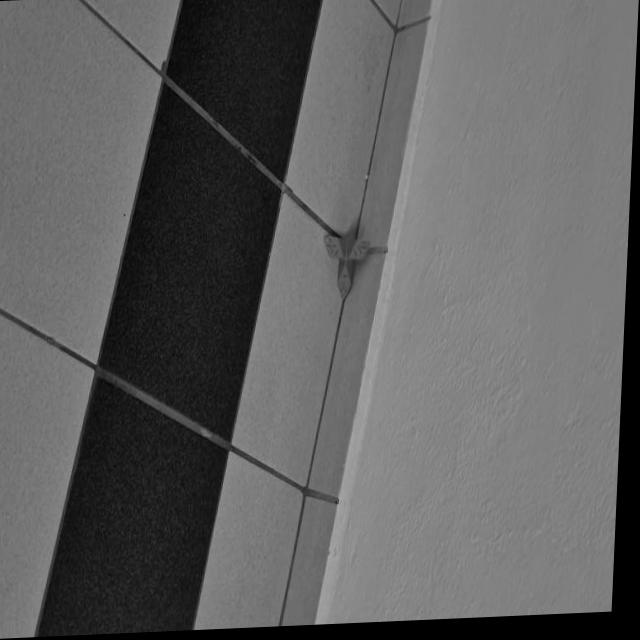eje: (320, 230, 372, 302)
